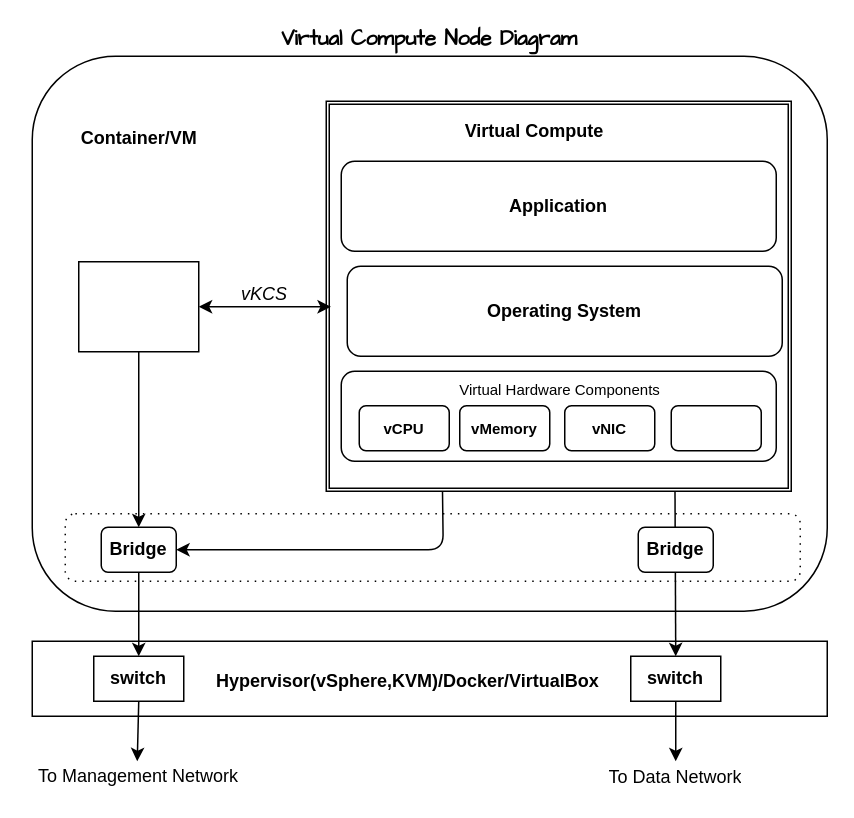
Some shapes in this 854 by 818 pixel diagram are drawn without their labels. The centre of each missing label's shape, as x and y in pixels:
"vBMC" belongs at point 138,306.
"vDisk" belongs at point 715,427.
